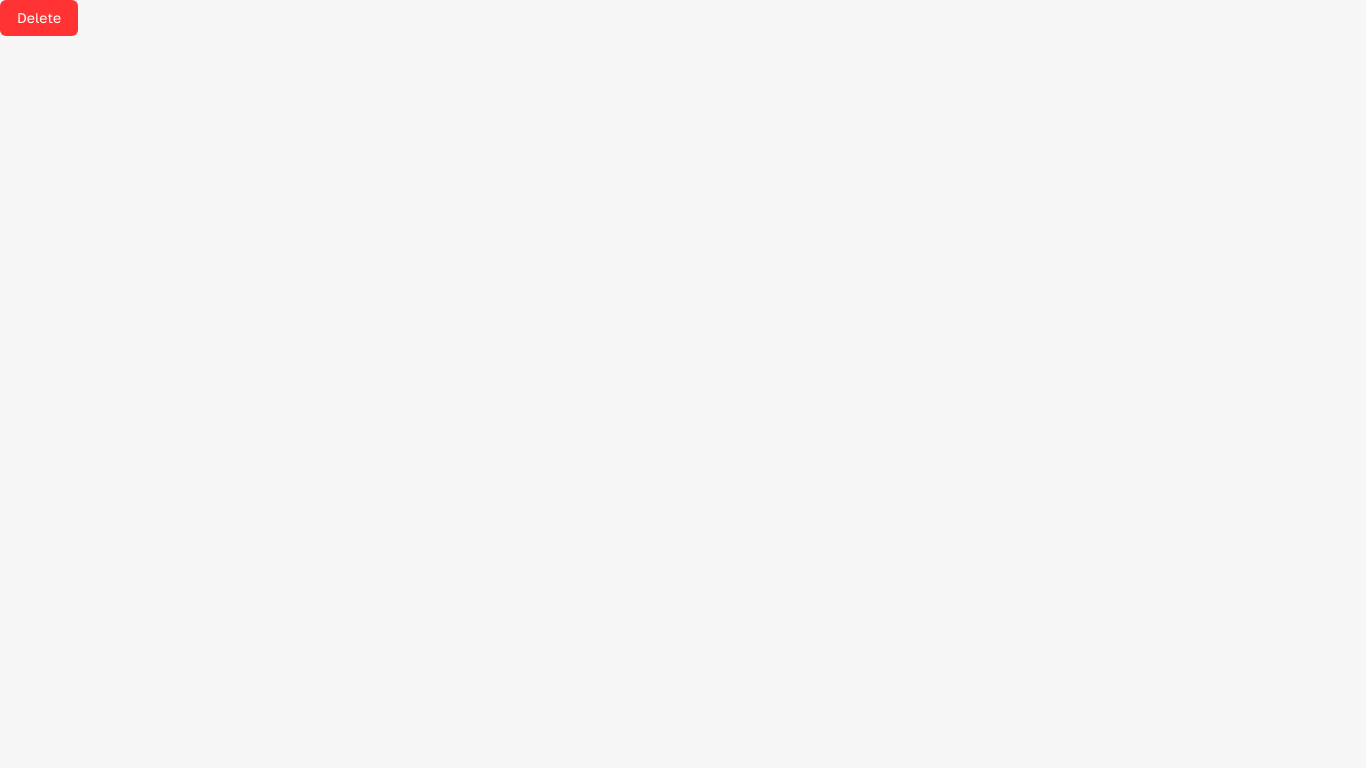
Test: DeleteSoftwareButton › deletes the software after confirmation
Later steps or results of the test are not shown.
Click the button "Delete": (39, 18) [0, 0, 78, 36]
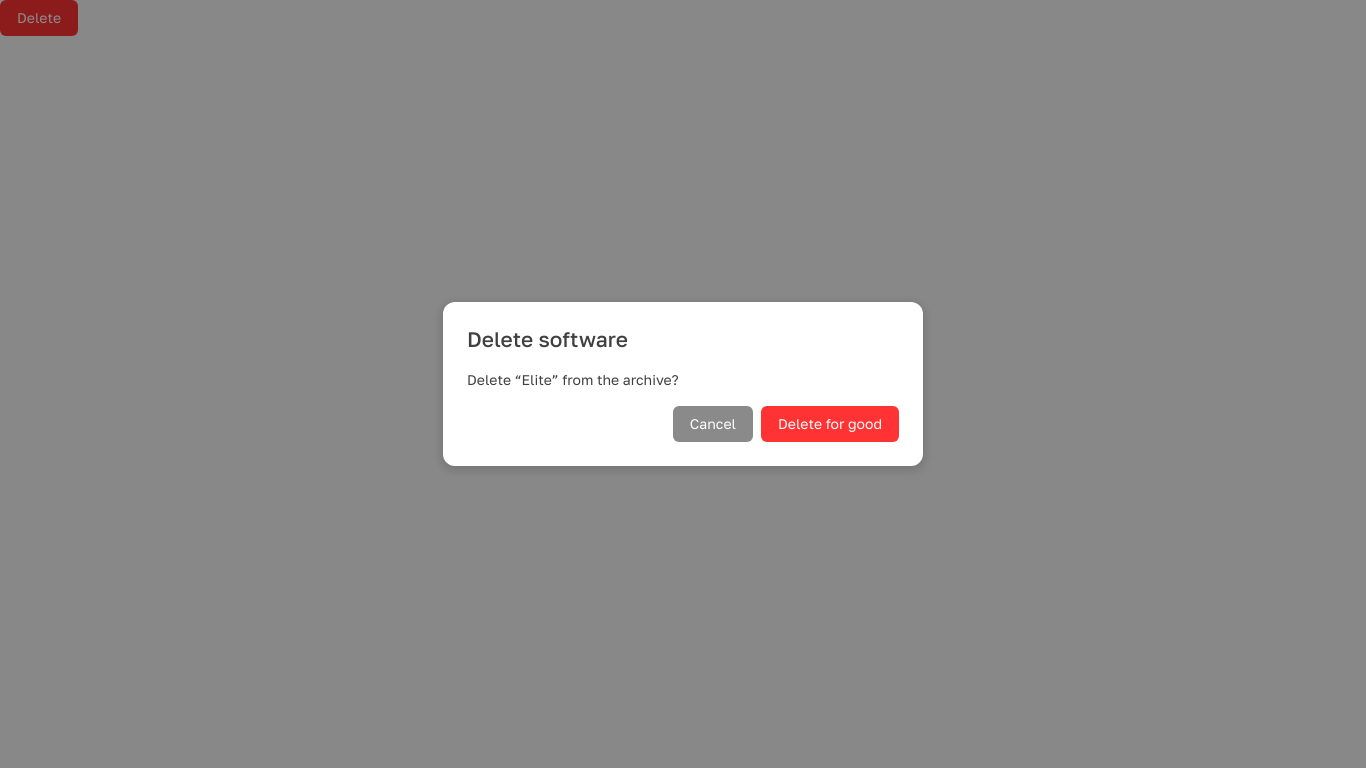
Now the dialog "Delete software" shows "Delete “Elite” from the archive?", box [467, 371, 679, 388]
